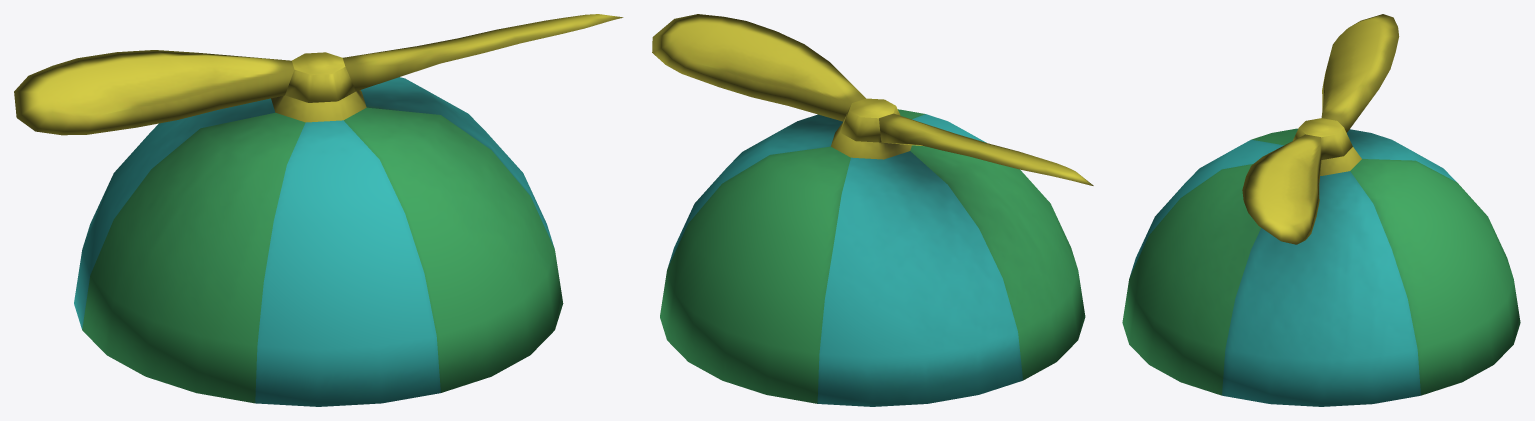
The model's file is hat_propeller.fbx.
3 views of the same model, side by side, from view 1: azimuth 30°, elevation 25°; view 2: azimuth 150°, elevation 25°; view 3: azimuth 270°, elevation 25° (orthographic). The views are drawn at different scales.
Parts seen in each view (by area): view 1: hat_propeller; view 2: hat_propeller; view 3: hat_propeller.
Boxes of the visible parts, x1=… form: hat_propeller: x1=14, y1=14, x2=623, y2=406; hat_propeller: x1=652, y1=14, x2=1093, y2=406; hat_propeller: x1=1122, y1=14, x2=1520, y2=406.
Bounding box in the file's own units: 2.26 × 1.03 × 1.73.
